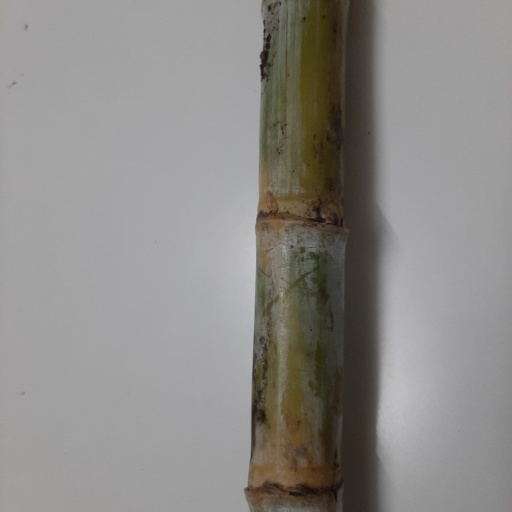Bud: (320, 202, 339, 224)
